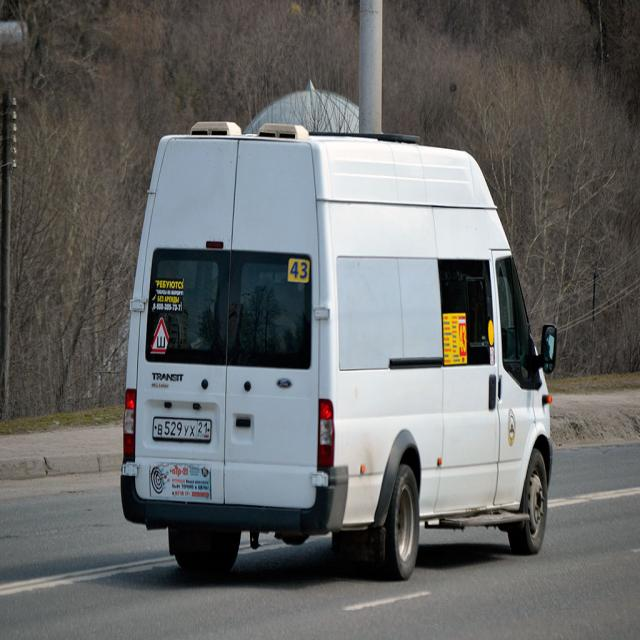number-of-bus: (288, 258, 311, 286)
